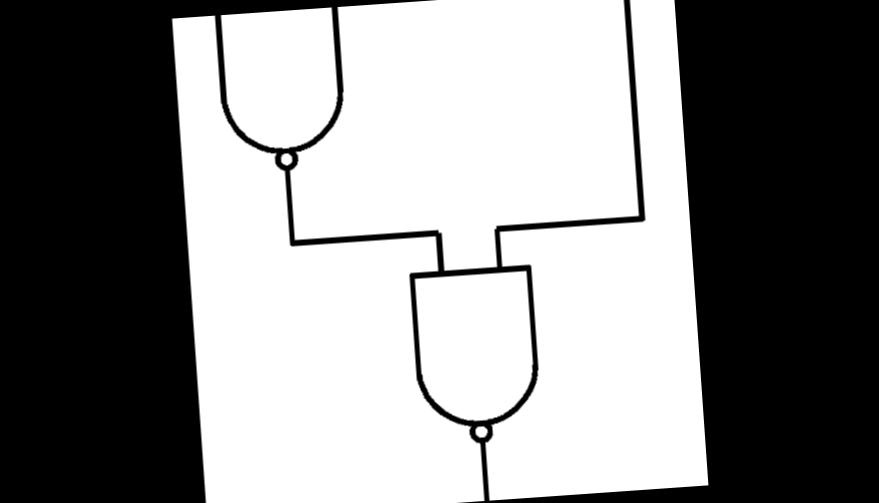nand: (378, 235, 571, 473), (194, 5, 374, 191)
